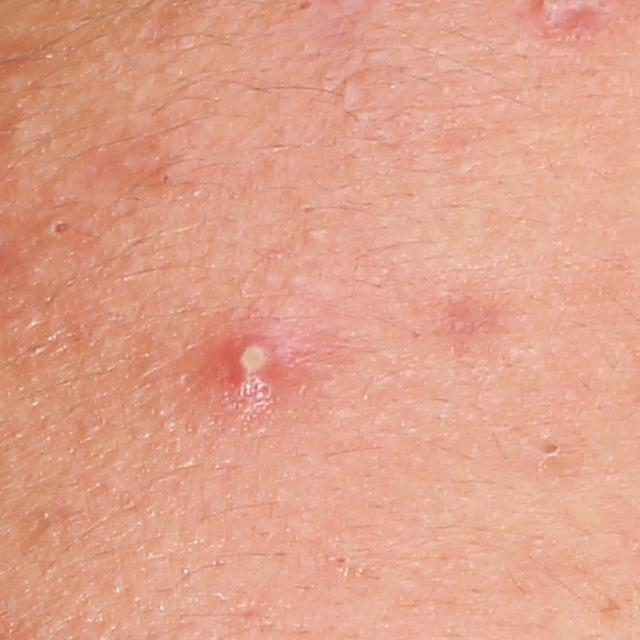comedo: (531, 435, 567, 472), (0, 113, 41, 145), (42, 214, 77, 241), (336, 75, 362, 107)
pustule: (201, 316, 309, 403)
